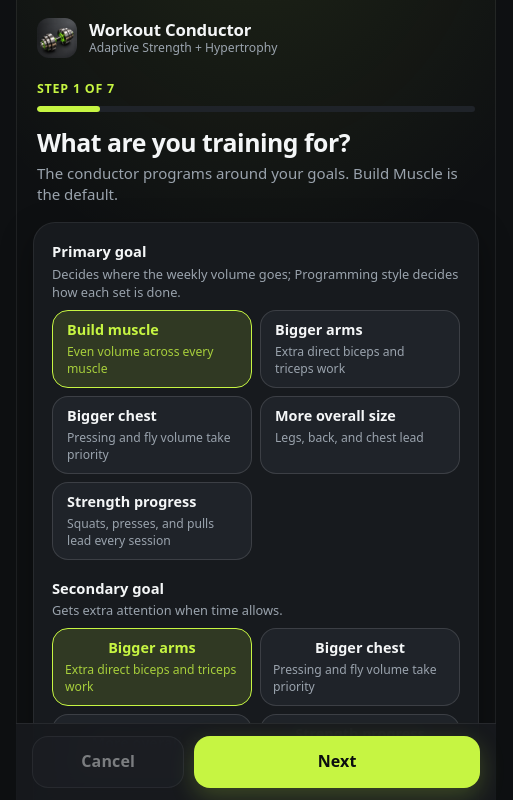
Test: App › blocks a step whose answers conflict
Click the button "Next" at [337, 762], box [194,736,480,788]
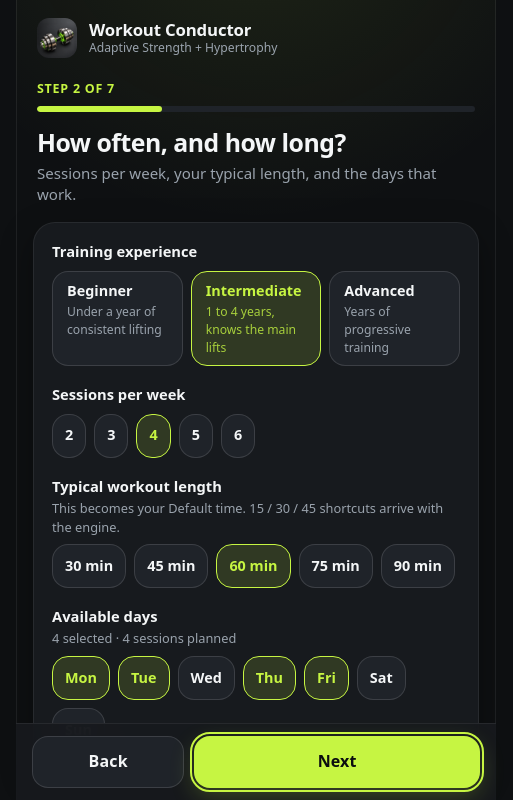
Expected: the heading "How often, and how long?" is shown, [37,125,346,159]
Click the radio button labelled "6" at [238, 436], box [221,414,255,458]
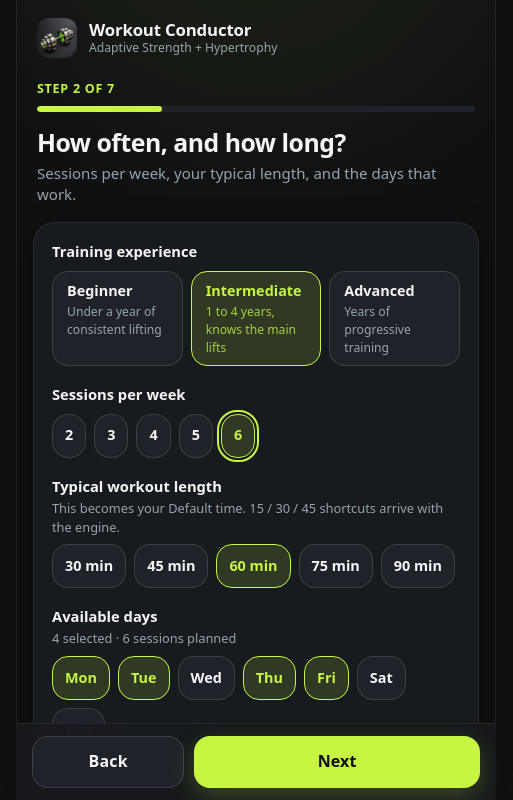
Click the button "Next" at [337, 762], box [194,736,480,788]
(page scrolled)
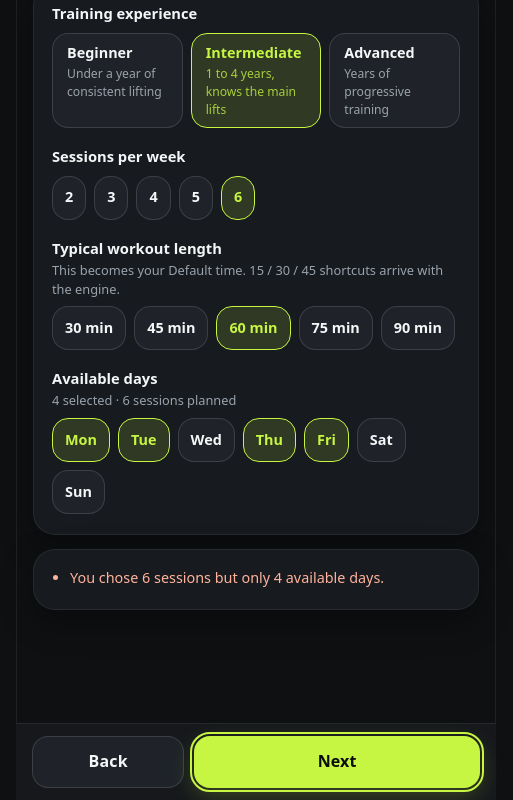
Expected: the message reads "You chose 6 sessions but only 4 available days.", [70,568,384,587]
